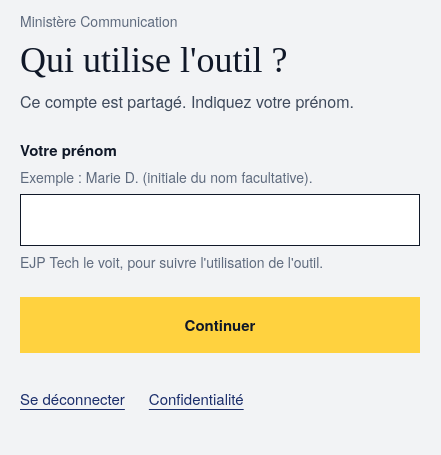
Test case: EcranDeclaration (T56) › « marie@exemple.test » : « Écrivez seulement votre prénom, en lettres. »
Type "marie@exemple.test" into the field labelled "Votre prénom".
click(220, 220); type("marie@exemple.test")  # box top-left (20, 194), bottom-right (420, 246)
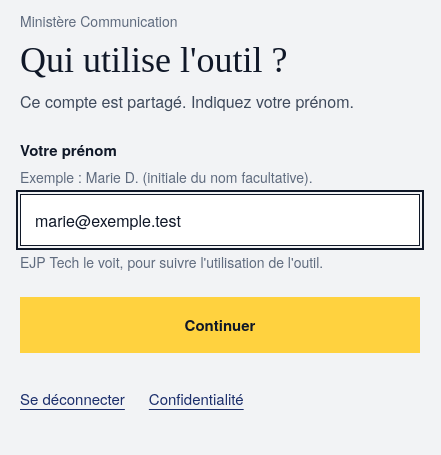
Click the button named "Continuer".
click(220, 325)  # box top-left (20, 297), bottom-right (420, 353)
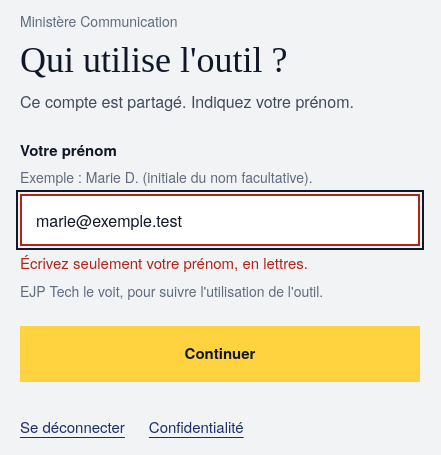
Now the text "Écrivez seulement votre prénom, en lettres." is shown, box top-left (20, 252), bottom-right (308, 273)
